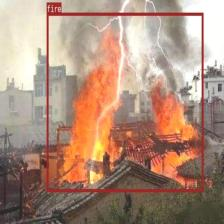fire: (47, 12, 203, 192)
